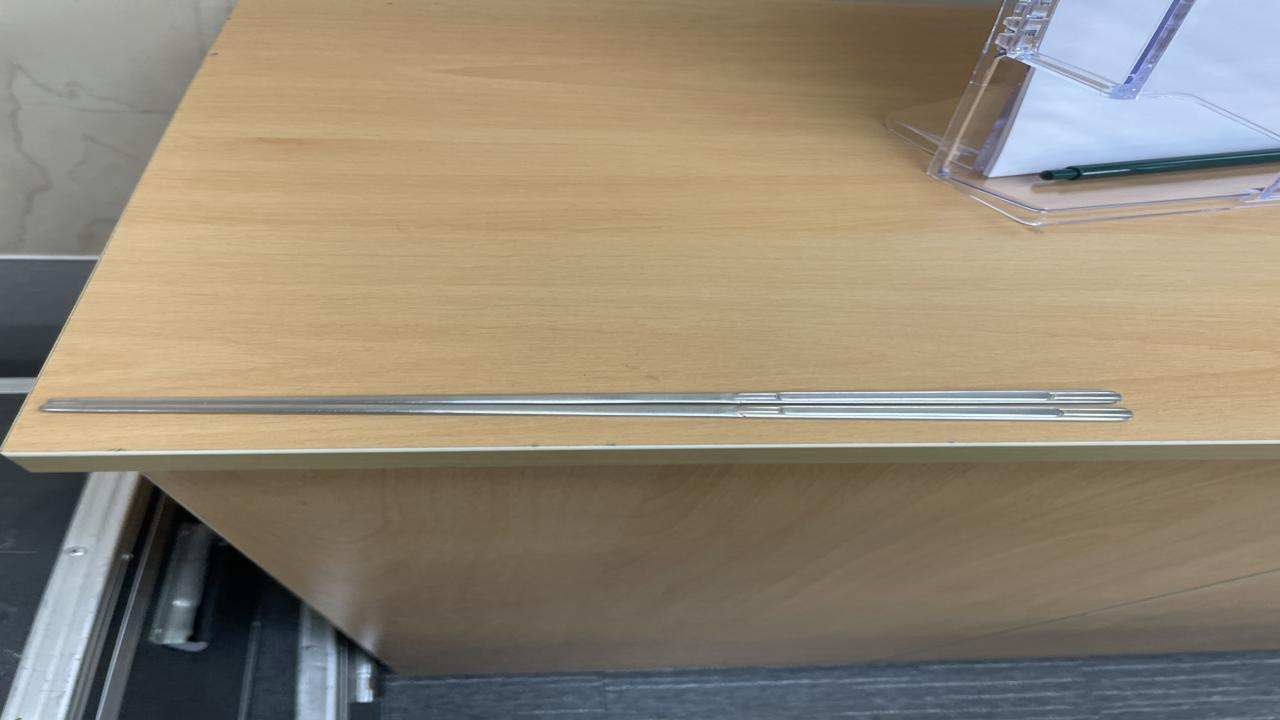chopstick: (44, 390, 1128, 419)
